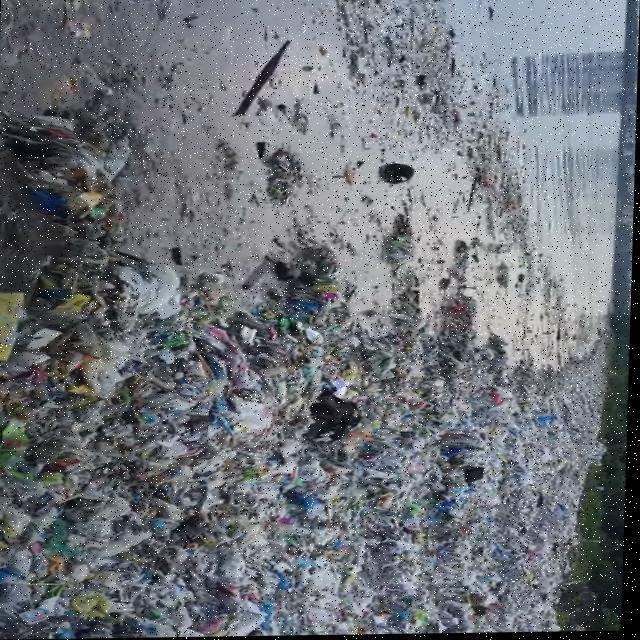plasticcover: (209, 381, 274, 453), (119, 266, 190, 320), (86, 521, 159, 564)
